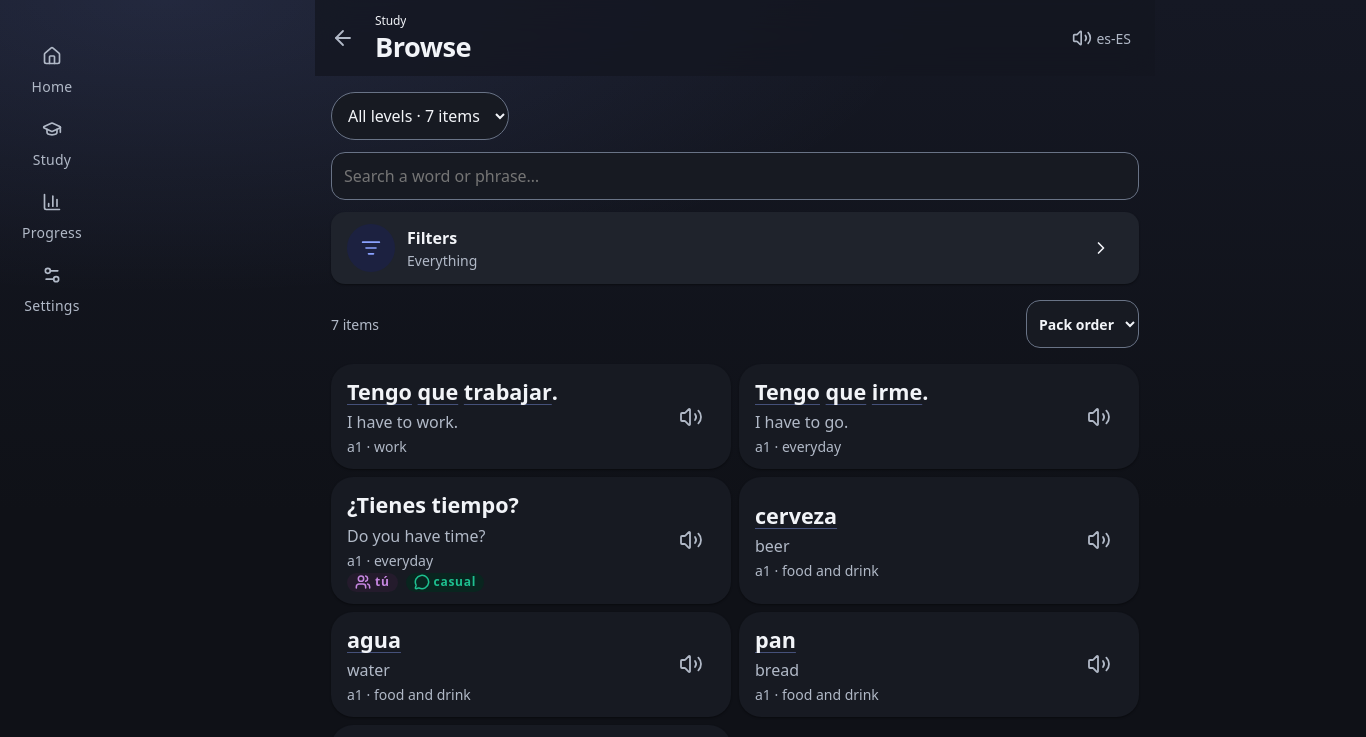
Scenario: the letter index › files a question under its first word, not its punctuation
Click the button with aria-label "Filters:": (371,248) [331,212,1139,284]
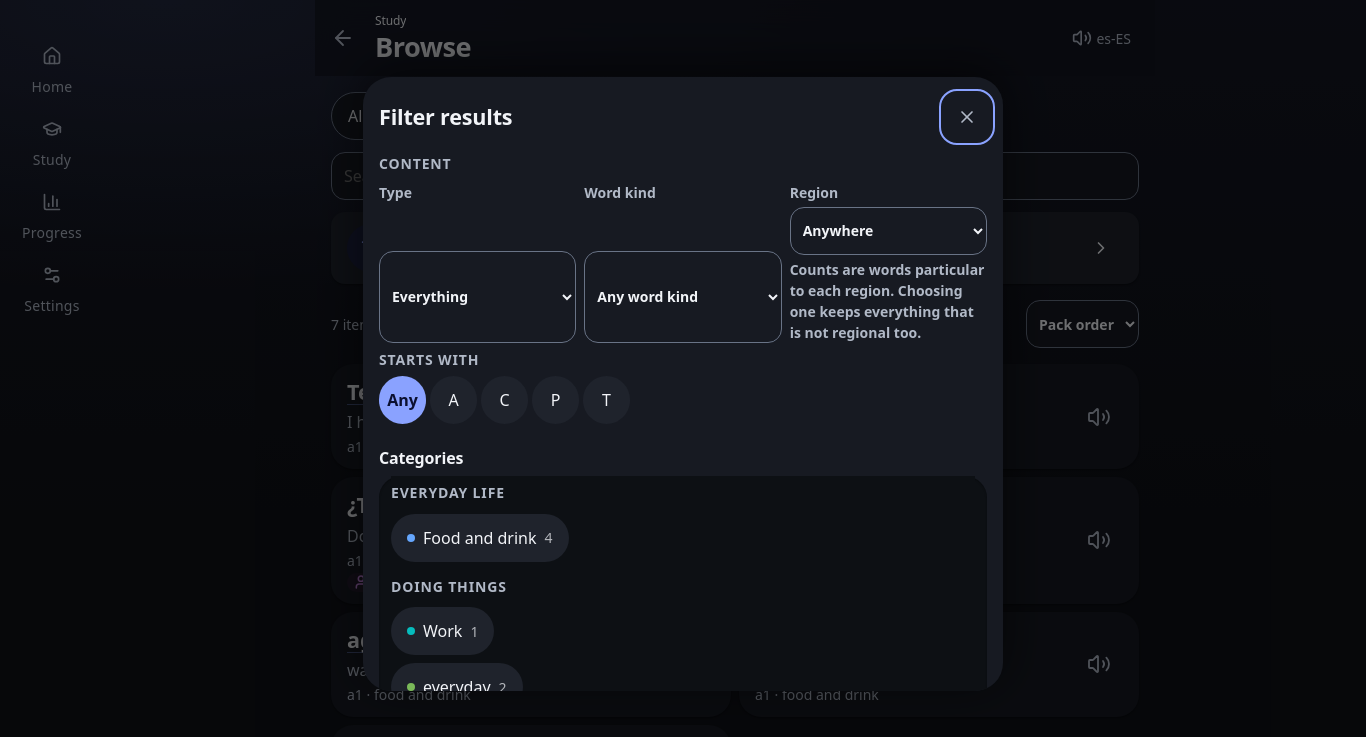
Click the button named "Starting with T": (606,400) [583,376,630,424]
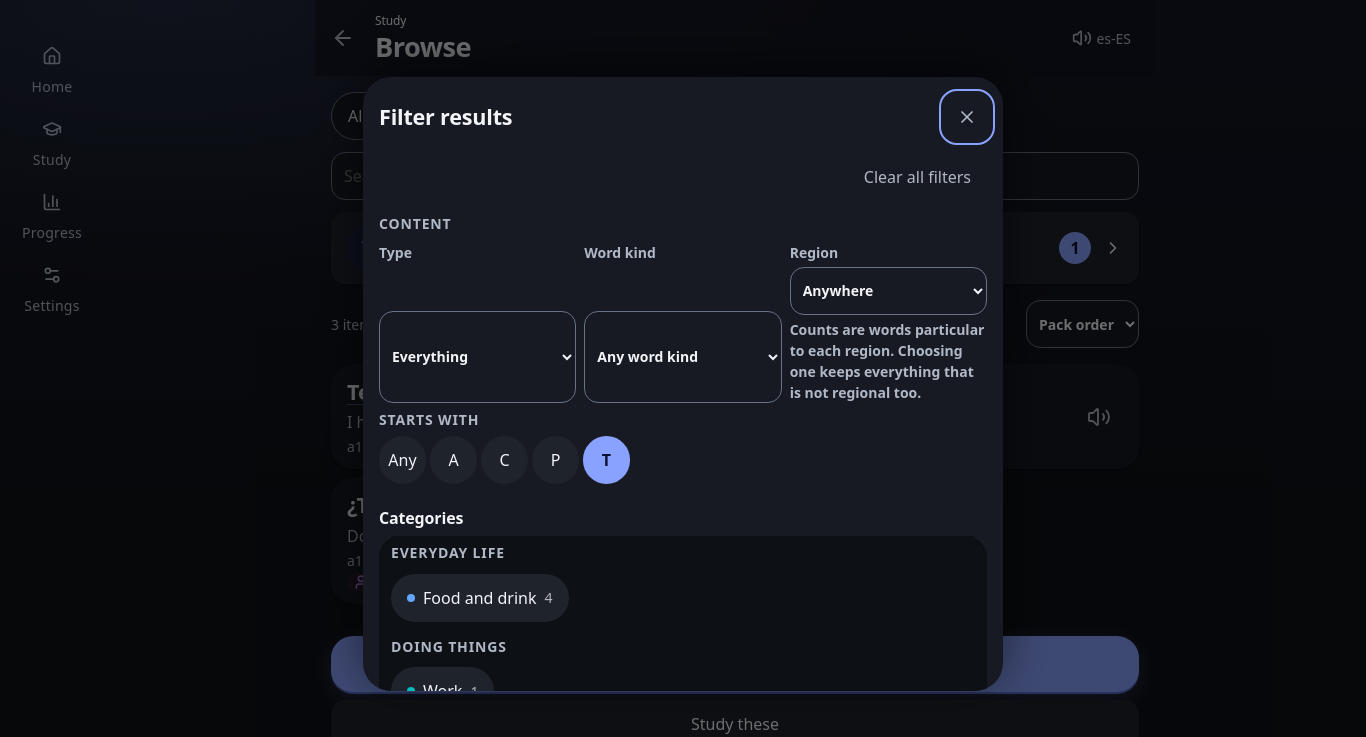
Expected: the text "¿Tienes tiempo?" is shown, [347,490,519,519]
Result: the message reads "3 items" at [331,314,379,334]
